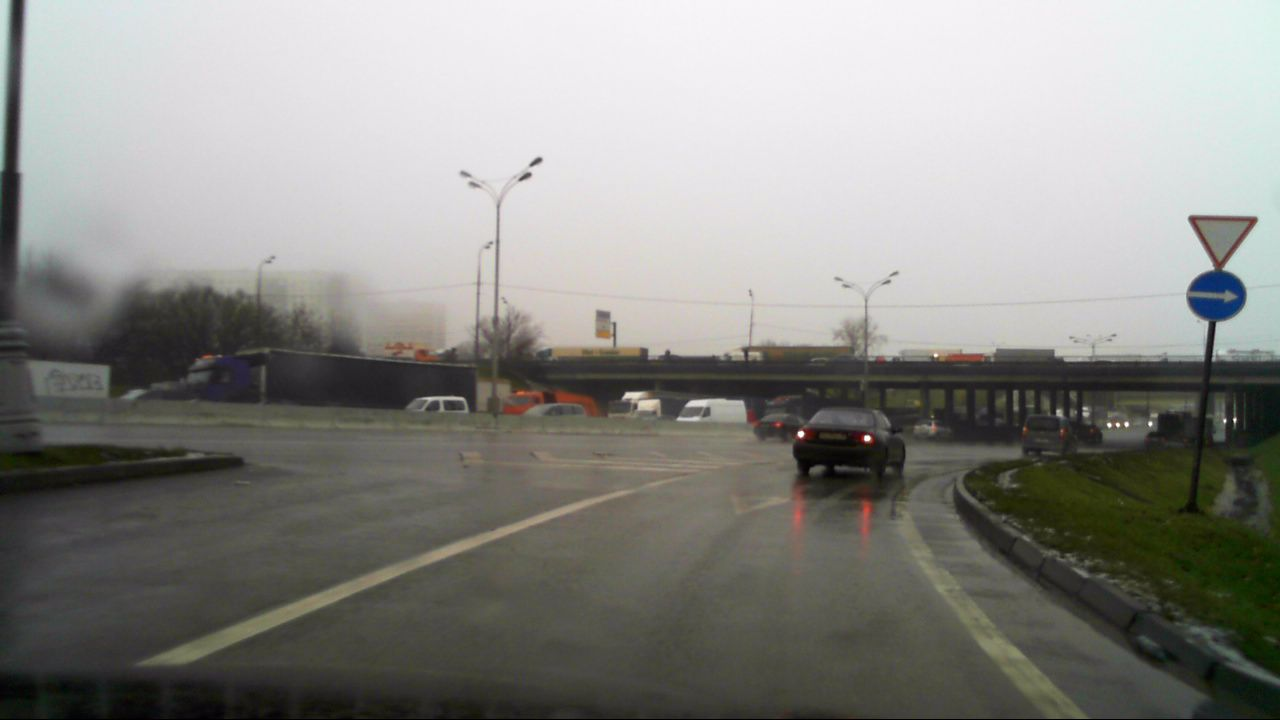Turn Right: (1186, 270, 1247, 322)
